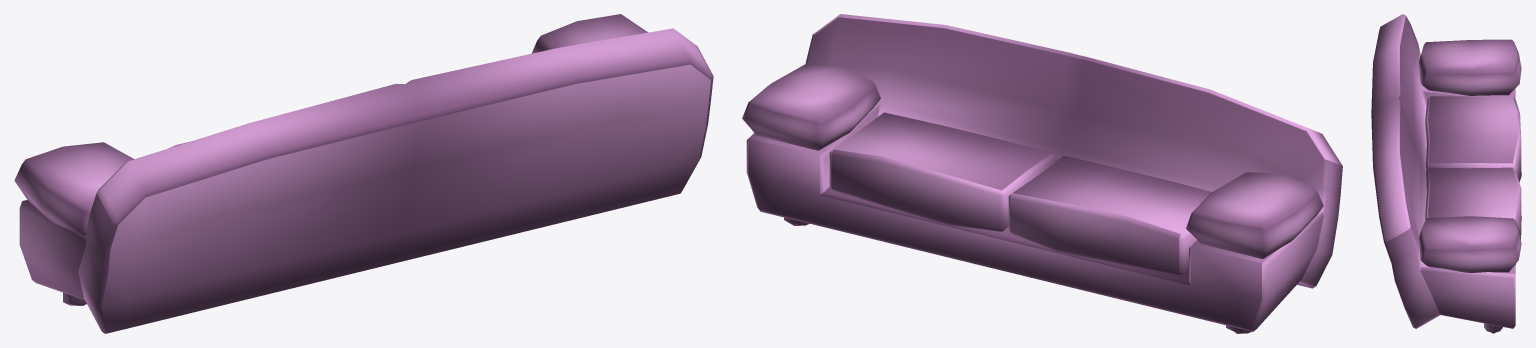
File: SM_Couch.fbx
3 views of the same model, side by side, from view 1: azimuth 30°, elevation 25°; view 2: azimuth 150°, elevation 25°; view 3: azimuth 270°, elevation 25° (orthographic). The views are drawn at different scales.
Visible parts, largest first — view 1: Couch1; view 2: Couch1; view 3: Couch1.
Part boxes in pixels (x1,y1,x2,y2): Couch1: [14, 14, 713, 333]; Couch1: [742, 14, 1342, 333]; Couch1: [1371, 14, 1521, 333].
Bounding box in the file's own units: 290 × 86.34 × 93.14.
